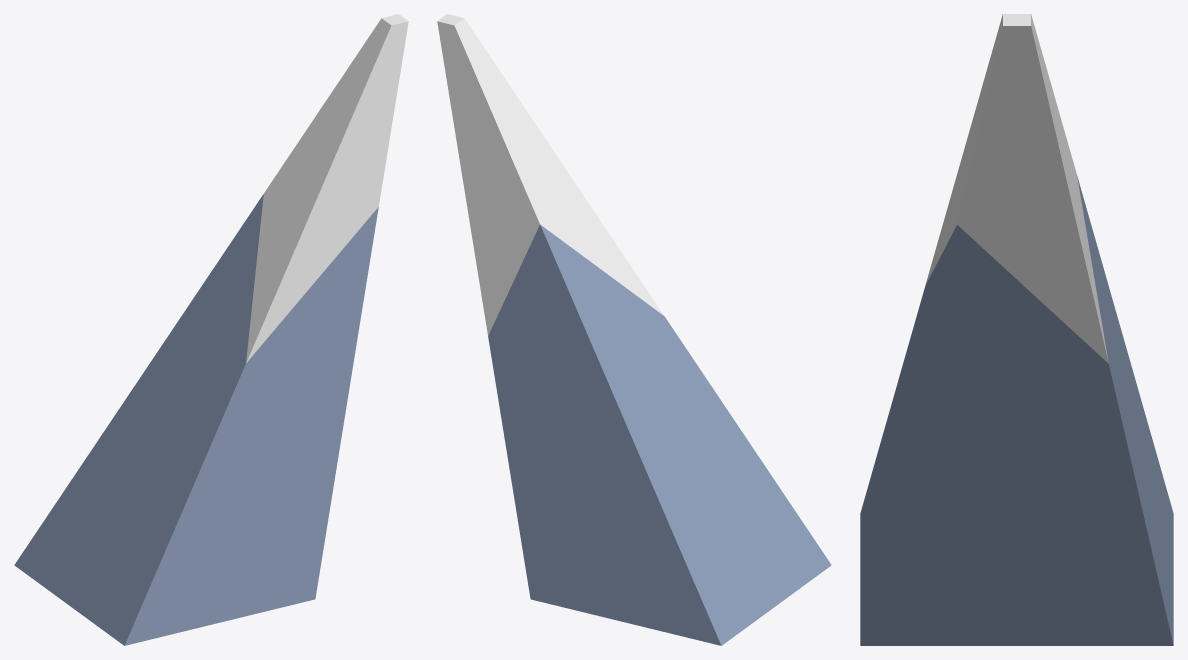
Rendered from WinterRockB_03.fbx.
The picture shows the model from 3 angles, left to right: view 1: azimuth 30°, elevation 25°; view 2: azimuth 150°, elevation 25°; view 3: azimuth 270°, elevation 25°; orthographic projection. The views are drawn at different scales.
Visible parts, largest first — view 1: WinterRockB_03; view 2: WinterRockB_03; view 3: WinterRockB_03.
Boxes of the visible parts, <box> form: WinterRockB_03: <box>14,14,408,645</box>; WinterRockB_03: <box>437,14,831,645</box>; WinterRockB_03: <box>860,14,1173,645</box>.
Size of the model in its own units: 0.7475 by 1.08 by 0.4268.
